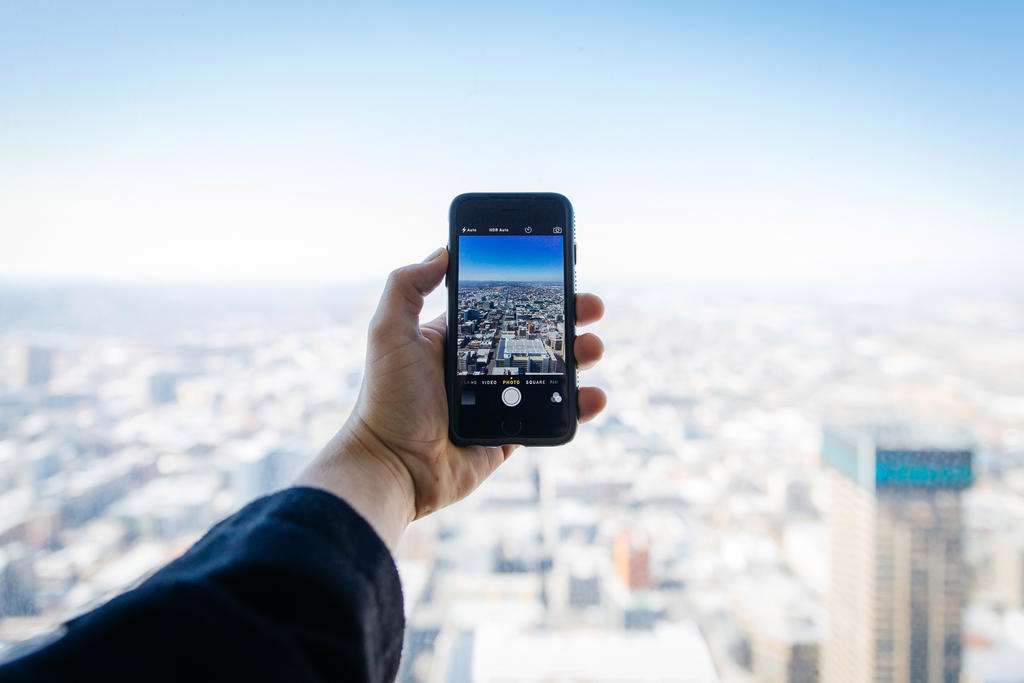taking photos: (354, 190, 611, 522)
